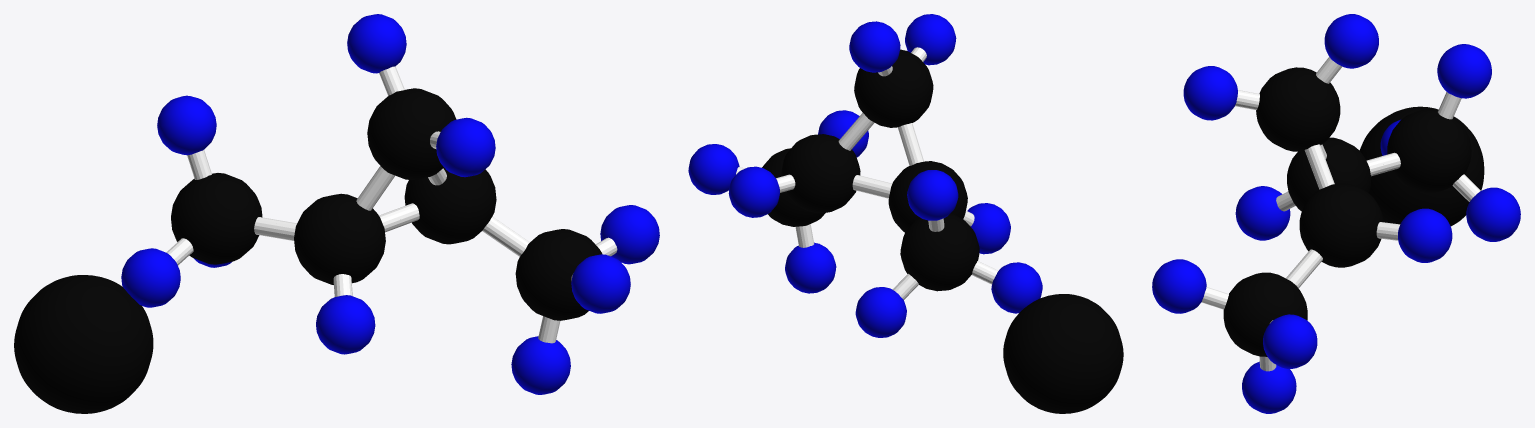
File: trans-dimetil-ciclo-propano.obj
3 renders of one model, left to right at view 1: azimuth 30°, elevation 25°; view 2: azimuth 150°, elevation 25°; view 3: azimuth 270°, elevation 25°, orthographic. The views are drawn at different scales.
Parts seen in each view (by area): view 1: Carbon_ball_SurfSphere, Shape_Sphere.017_Shape_Sphere.078, Shape_Sphere.021_Shape_Sphere.082, Shape_Sphere.015_Shape_Sphere.076, Shape_Sphere.020_Shape_Sphere.081, Shape_Sphere.016_Shape_Sphere.077, Shape_Sphere.027_Shape_Sphere.088, Shape_Sphere.024_Shape_Sphere.085, Shape_Sphere.019_Shape_Sphere.080, Shape_Sphere.026_Shape_Sphere.087, Shape_Sphere.018_Shape_Sphere.079, Shape_Sphere.028_Shape_Sphere.089 (+2 smaller); view 2: Carbon_ball_SurfSphere, Shape_Sphere.016_Shape_Sphere.077, Shape_Sphere.021_Shape_Sphere.082, Shape_Sphere.015_Shape_Sphere.076, Shape_Sphere.018_Shape_Sphere.079, Shape_Sphere.027_Shape_Sphere.088, Shape_Sphere.022_Shape_Sphere.083, Shape_Sphere.029_Shape_Sphere, Shape_Sphere.023_Shape_Sphere.084, Shape_Sphere.017_Shape_Sphere.078, Shape_Sphere.025_Shape_Sphere.086, Shape_Sphere.028_Shape_Sphere.089 (+4 smaller); view 3: Shape_Sphere.015_Shape_Sphere.076, Shape_Sphere.016_Shape_Sphere.077, Shape_Sphere.021_Shape_Sphere.082, Carbon_ball_SurfSphere, Shape_Sphere.020_Shape_Sphere.081, Shape_Sphere.017_Shape_Sphere.078, Shape_Sphere.027_Shape_Sphere.088, Shape_Sphere.018_Shape_Sphere.079, Shape_Sphere.025_Shape_Sphere.086, Shape_Sphere.022_Shape_Sphere.083, Shape_Sphere.019_Shape_Sphere.080, Shape_Sphere.029_Shape_Sphere (+6 smaller).
Boxes of the visible parts, box(x1,y1,x2,y2) form: Carbon_ball_SurfSphere: box(14, 275, 153, 413); Shape_Sphere.017_Shape_Sphere.078: box(294, 193, 385, 284); Shape_Sphere.021_Shape_Sphere.082: box(171, 173, 262, 264); Shape_Sphere.015_Shape_Sphere.076: box(367, 88, 456, 180); Shape_Sphere.020_Shape_Sphere.081: box(515, 229, 602, 320); Shape_Sphere.016_Shape_Sphere.077: box(404, 167, 496, 244); Shape_Sphere.027_Shape_Sphere.088: box(157, 95, 216, 155); Shape_Sphere.024_Shape_Sphere.085: box(571, 254, 630, 313); Shape_Sphere.019_Shape_Sphere.080: box(436, 117, 495, 177); Shape_Sphere.026_Shape_Sphere.087: box(316, 295, 375, 354); Shape_Sphere.018_Shape_Sphere.079: box(347, 14, 406, 73); Shape_Sphere.028_Shape_Sphere.089: box(121, 248, 180, 307); Carbon_ball_SurfSphere: box(1003, 294, 1123, 413); Shape_Sphere.016_Shape_Sphere.077: box(781, 134, 860, 213); Shape_Sphere.021_Shape_Sphere.082: box(900, 213, 979, 291); Shape_Sphere.015_Shape_Sphere.076: box(854, 49, 933, 127); Shape_Sphere.018_Shape_Sphere.079: box(849, 21, 900, 72); Shape_Sphere.027_Shape_Sphere.088: box(907, 170, 958, 220); Shape_Sphere.022_Shape_Sphere.083: box(728, 166, 779, 217); Shape_Sphere.029_Shape_Sphere: box(855, 287, 906, 337); Shape_Sphere.023_Shape_Sphere.084: box(785, 242, 836, 293); Shape_Sphere.017_Shape_Sphere.078: box(888, 161, 967, 232); Shape_Sphere.025_Shape_Sphere.086: box(688, 144, 739, 194); Shape_Sphere.028_Shape_Sphere.089: box(991, 262, 1042, 313); Shape_Sphere.015_Shape_Sphere.076: box(1256, 67, 1340, 151); Shape_Sphere.016_Shape_Sphere.077: box(1299, 183, 1383, 267); Shape_Sphere.021_Shape_Sphere.082: box(1387, 109, 1471, 193); Carbon_ball_SurfSphere: box(1359, 106, 1484, 226); Shape_Sphere.020_Shape_Sphere.081: box(1223, 272, 1307, 356); Shape_Sphere.017_Shape_Sphere.078: box(1287, 137, 1370, 211); Shape_Sphere.027_Shape_Sphere.088: box(1437, 44, 1491, 98); Shape_Sphere.018_Shape_Sphere.079: box(1324, 14, 1378, 68); Shape_Sphere.025_Shape_Sphere.086: box(1263, 314, 1317, 368); Shape_Sphere.022_Shape_Sphere.083: box(1398, 208, 1452, 262); Shape_Sphere.019_Shape_Sphere.080: box(1183, 66, 1237, 120); Shape_Sphere.029_Shape_Sphere: box(1466, 187, 1520, 241).
Bounding box in the file's own units: 7.17 × 4.54 × 4.44.
